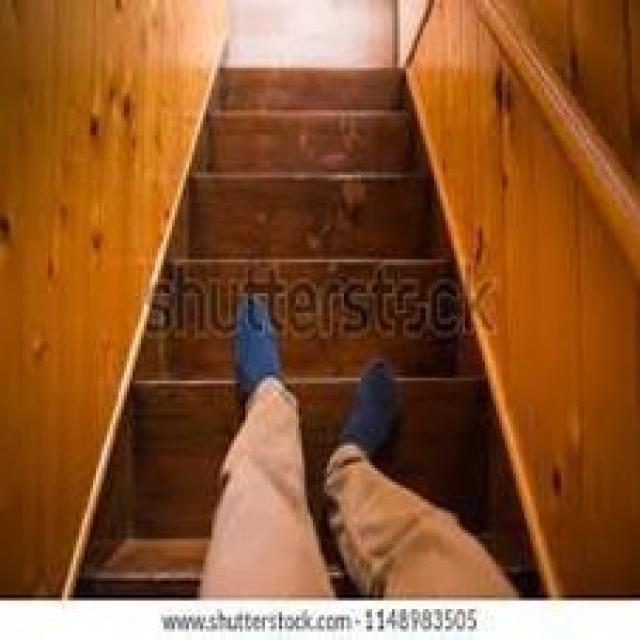downstair: (122, 230, 486, 433)
